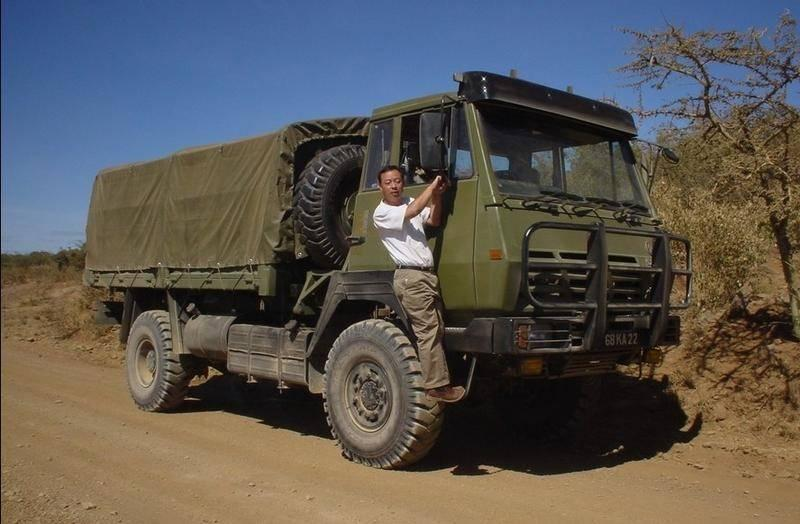truck: (80, 62, 691, 476)
